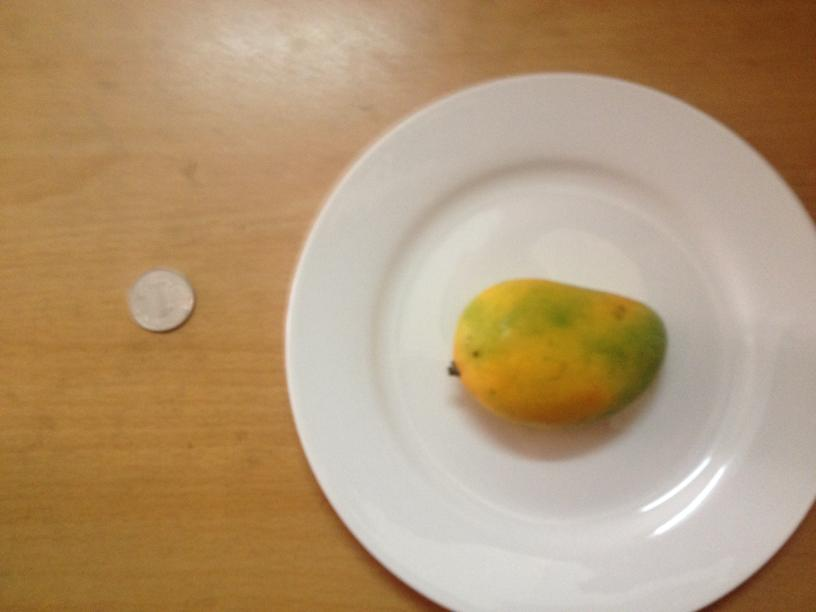coin: (126, 269, 195, 334)
mango: (453, 280, 667, 427)
